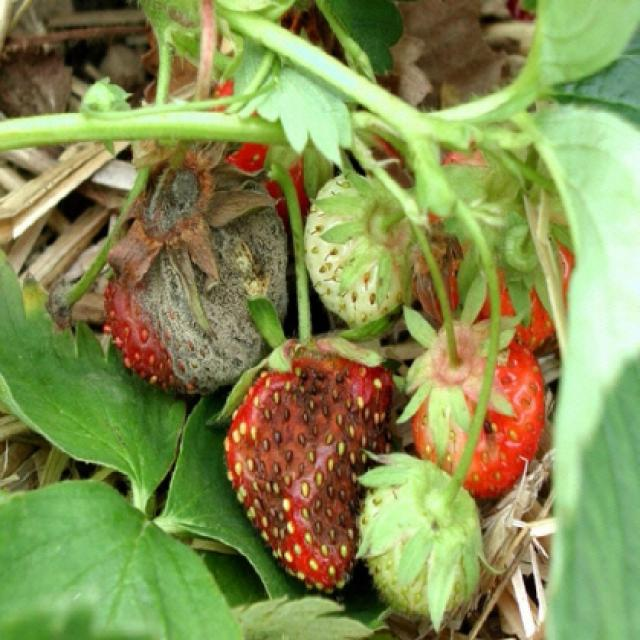Anthracnose Fruit Rot: (221, 342, 396, 591), (108, 165, 288, 394)
